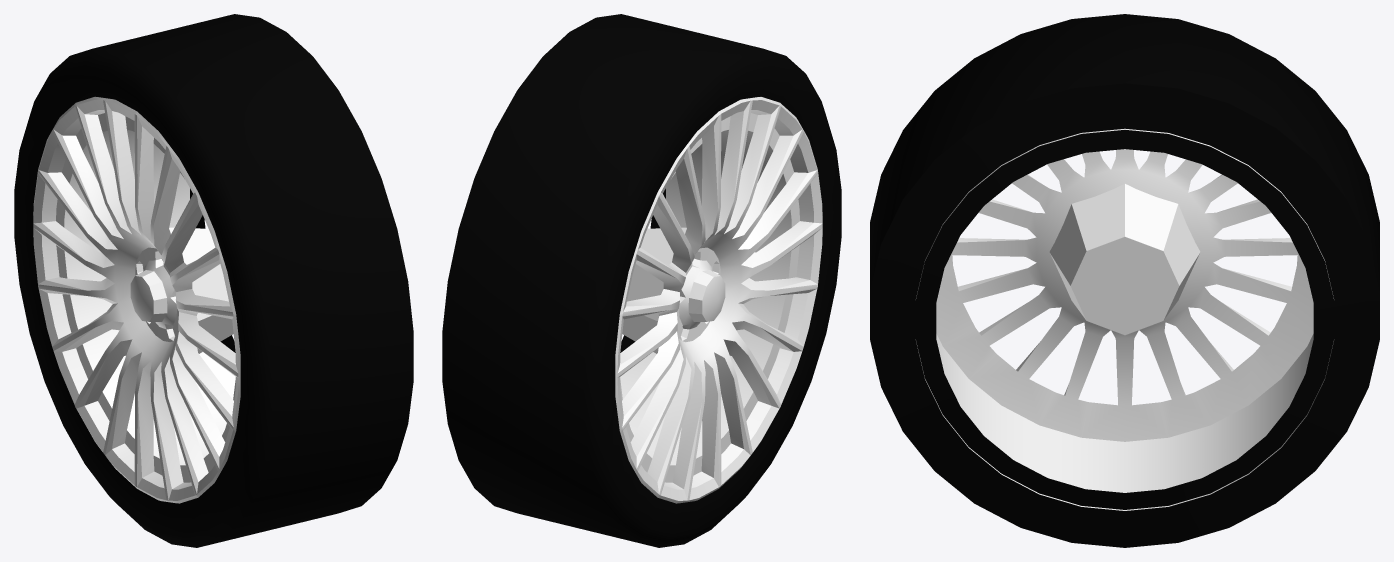
File: lamborghini_gallardo_wheelhigh.obj
3 renders of one model, left to right at view 1: azimuth 30°, elevation 25°; view 2: azimuth 150°, elevation 25°; view 3: azimuth 270°, elevation 25°, orthographic.
Parts seen in each view (by area): view 1: lamborghini_gallardo_wheelhigh; view 2: lamborghini_gallardo_wheelhigh; view 3: lamborghini_gallardo_wheelhigh.
Boxes of the visible parts, x1,y1,x2,y2 form: lamborghini_gallardo_wheelhigh: (14,14,413,547); lamborghini_gallardo_wheelhigh: (442,14,841,547); lamborghini_gallardo_wheelhigh: (870,14,1379,547).
Size of the model in its own units: 0.2314 by 0.6252 by 0.6218.
